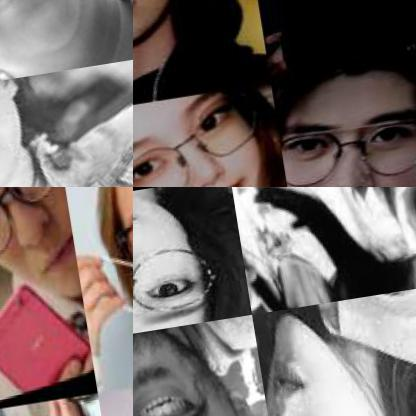Glasses: (133, 85, 277, 186), (279, 114, 415, 186), (0, 187, 77, 284)
glasses: (133, 224, 252, 346), (0, 77, 39, 186)
hands: (389, 187, 415, 290), (242, 250, 276, 313)
